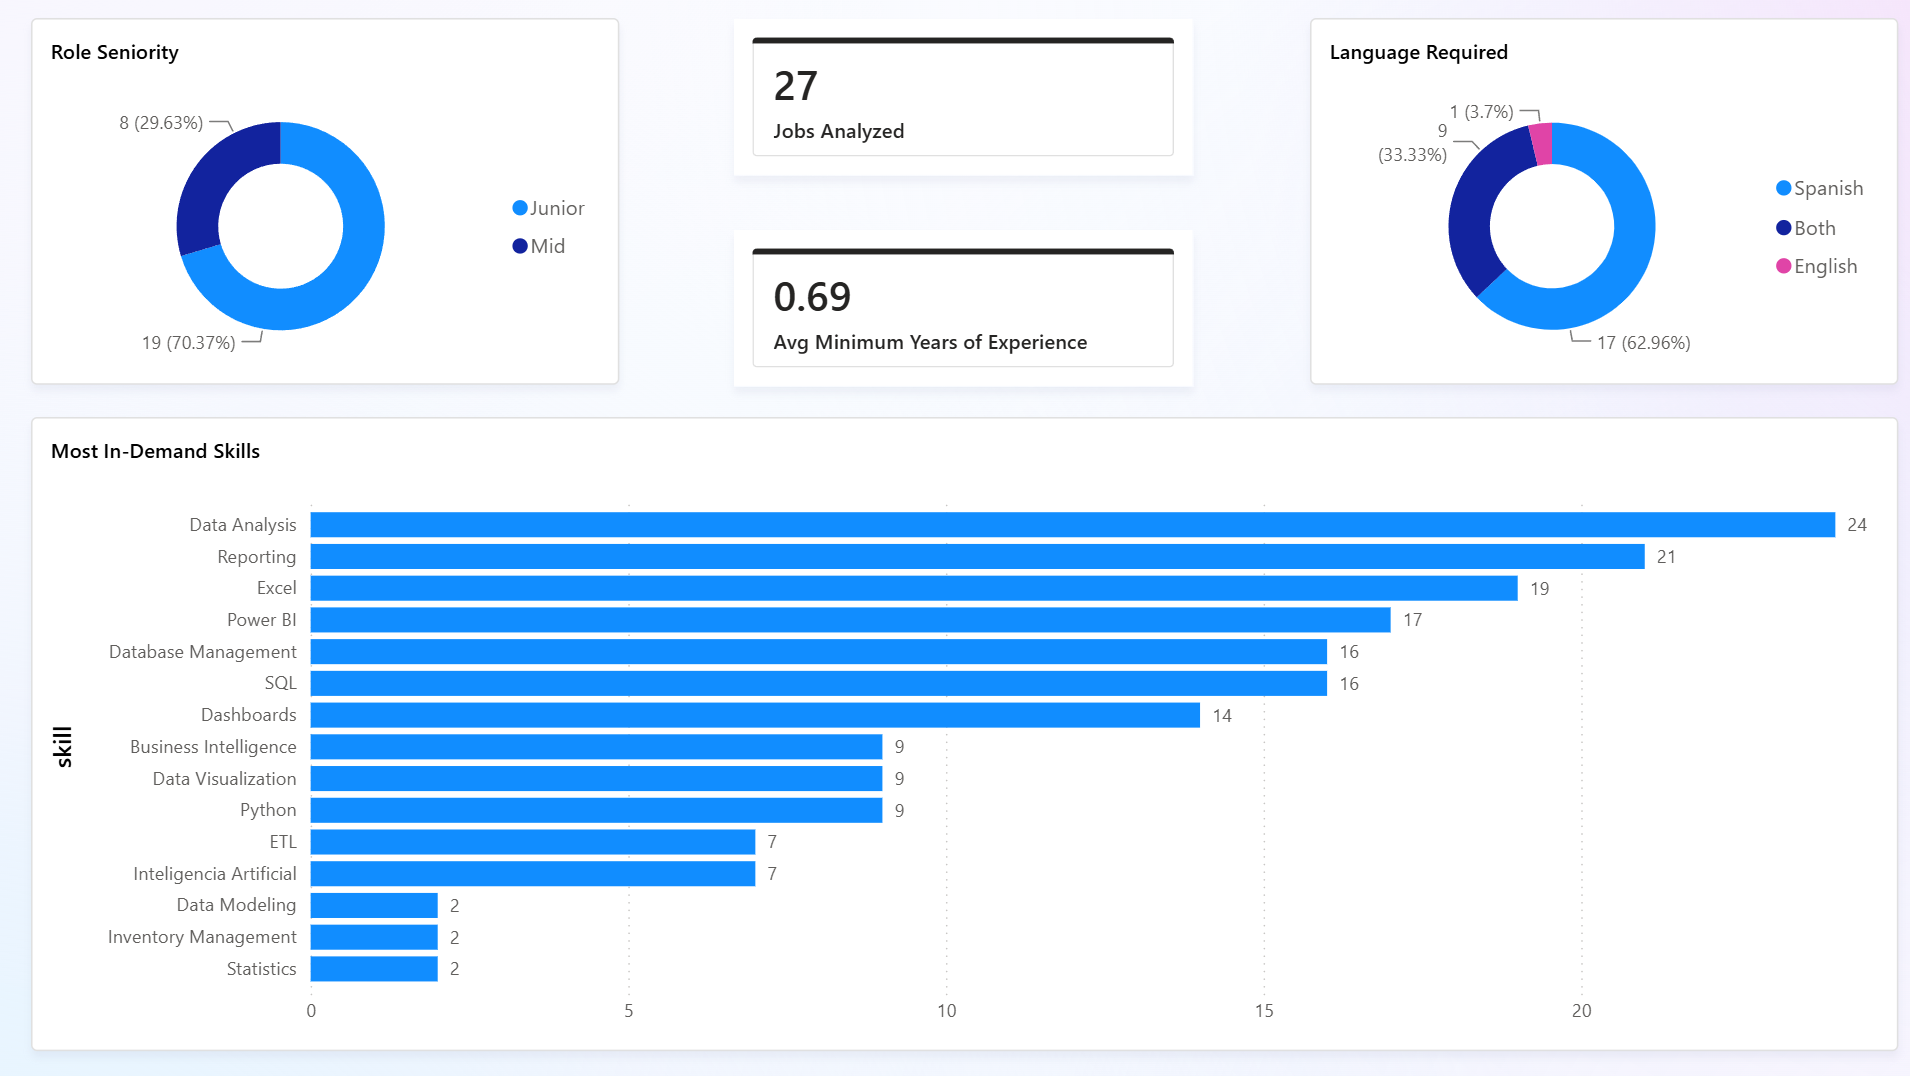

The dashboard page shown, as its layout file describes it:
{"tool":"powerbi","page":{"name":"Page 1","canvas":[1280,720],"ordinal":0},"visuals":[{"type":"barChart","fields":{"Category":["skills_analysisAIFinal.skill"],"Y":["CountNonNull(skills_analysisAIFinal.skill)"]},"box":[28.8,277.5,1221.8,414.9],"z":0},{"type":"cardVisual","fields":{"Data":["CountNonNull(jobs_analysisAIFinal.job_title)"]},"box":[528.6,16.1,222.5,102.1],"z":1},{"type":"donutChart","fields":{"Category":["jobs_analysisAIFinal.seniority"],"Y":["CountNonNull(jobs_analysisAIFinal.seniority)"]},"box":[28.8,16.4,384.8,239.5],"z":2},{"type":"donutChart","fields":{"Category":["jobs_analysisAIFinal.language_required"],"Y":["CountNonNull(jobs_analysisAIFinal.language_required)"]},"box":[865.8,16.4,384.8,239.5],"z":3},{"type":"cardVisual","fields":{"Data":["Avg(jobs_analysisAIFinal.experience_years_min)"]},"box":[528.6,145.6,222.5,102.1],"z":4}]}

Visuals, with their boxes in screenshot pixels (x1, y1, x2, y2), scaled from the page's 1280x720 canvas onto the 1910x1076 screenshot:
barChart - skills_analysisAIFinal.skill x CountNonNull(skills_analysisAIFinal.skill): x1=43, y1=415, x2=1866, y2=1035
cardVisual - CountNonNull(jobs_analysisAIFinal.job_title): x1=789, y1=24, x2=1121, y2=177
donutChart - jobs_analysisAIFinal.seniority x CountNonNull(jobs_analysisAIFinal.seniority): x1=43, y1=25, x2=617, y2=382
donutChart - jobs_analysisAIFinal.language_required x CountNonNull(jobs_analysisAIFinal.language_required): x1=1292, y1=25, x2=1866, y2=382
cardVisual - Avg(jobs_analysisAIFinal.experience_years_min): x1=789, y1=218, x2=1121, y2=370
